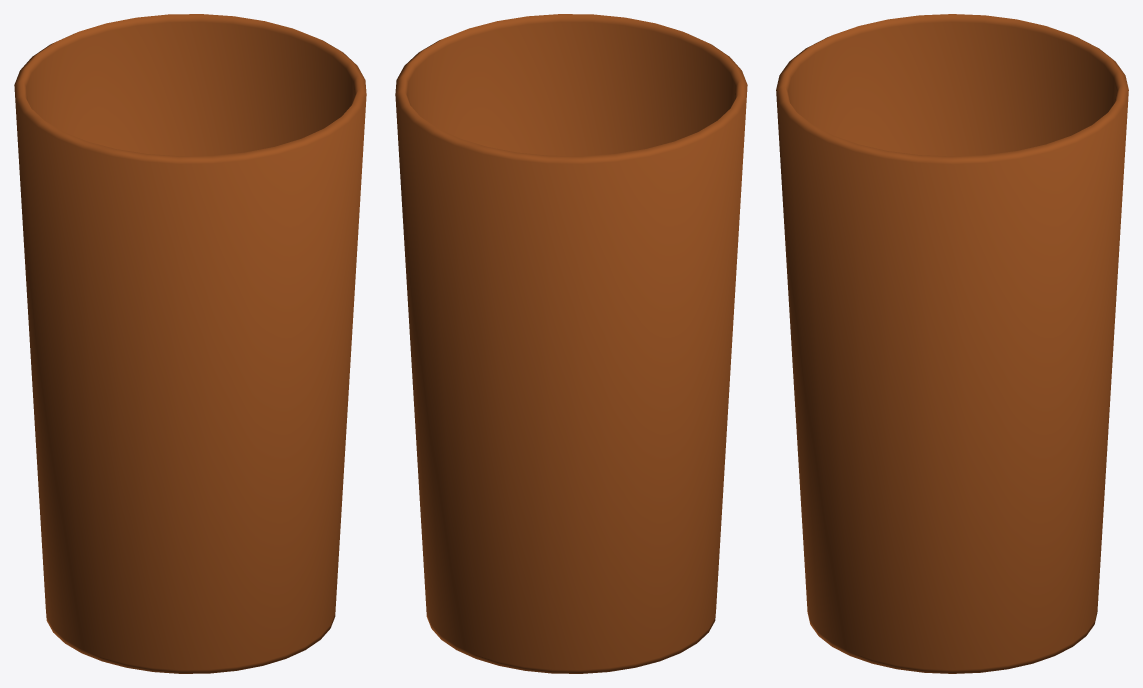
The model's file is Bronze Cup .fbx.
3 views of the same model, side by side, from view 1: azimuth 30°, elevation 25°; view 2: azimuth 150°, elevation 25°; view 3: azimuth 270°, elevation 25° (orthographic).
Visible parts, largest first — view 1: Bronze Cup; view 2: Bronze Cup; view 3: Bronze Cup.
Boxes of the visible parts, left/top/right/bottom form: Bronze Cup: left=14, top=14, right=366, bottom=673; Bronze Cup: left=395, top=14, right=747, bottom=673; Bronze Cup: left=776, top=14, right=1128, bottom=673.
Size of the model in its own units: 56.83 by 56.83 by 93.76.
